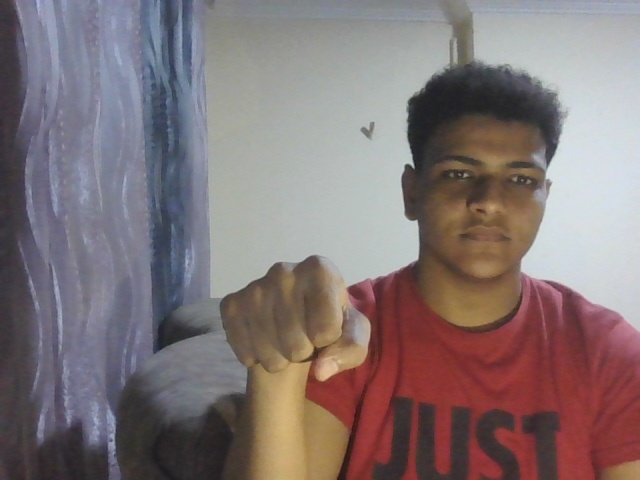yes: (204, 231, 377, 412)
